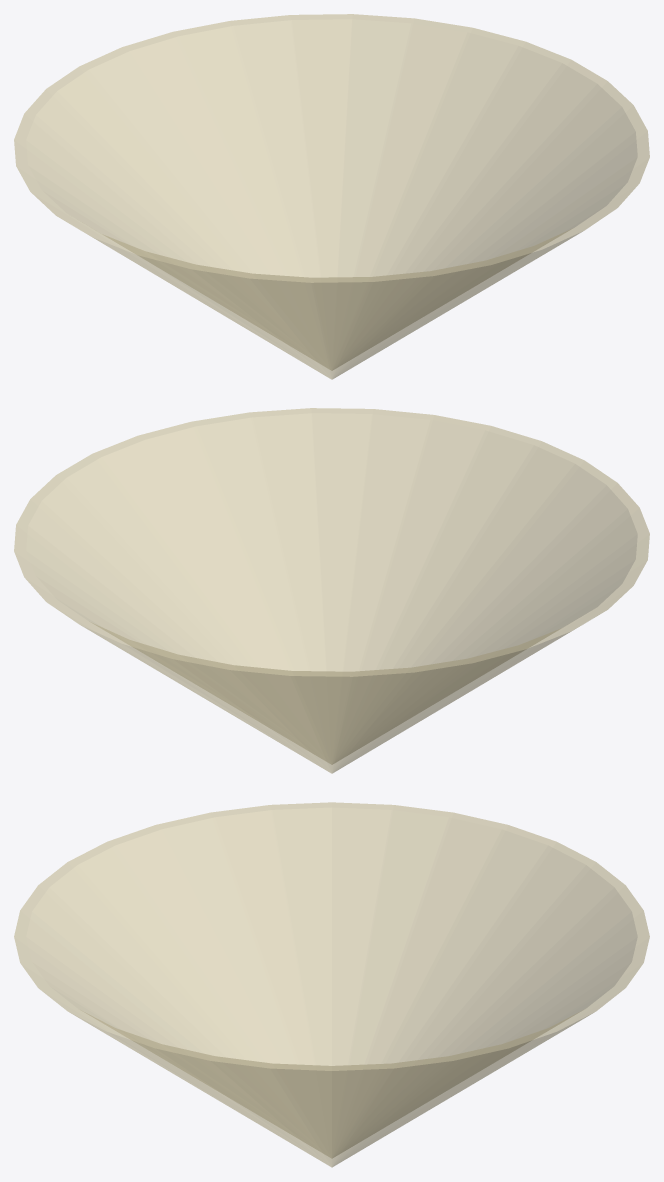
The picture shows the model from 3 angles, top to bottom: view 1: azimuth 30°, elevation 25°; view 2: azimuth 150°, elevation 25°; view 3: azimuth 270°, elevation 25°; orthographic projection.
Parts seen in each view (by area): view 1: Cone_WP; view 2: Cone_WP; view 3: Cone_WP.
Part boxes in pixels (x1,y1,x2,y2): Cone_WP: (14,14,649,379); Cone_WP: (14,408,649,773); Cone_WP: (14,802,649,1167).
Size of the model in its own units: 0.6562 by 0.6562 by 0.2629.
